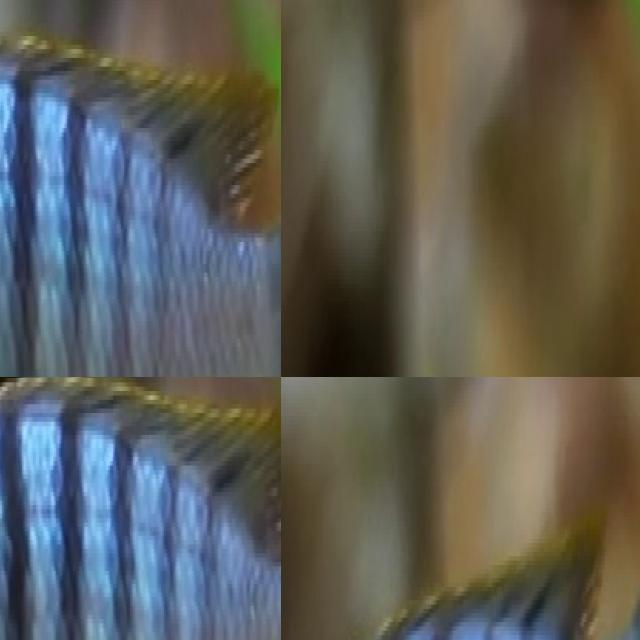fish: (0, 0, 281, 377), (0, 377, 281, 640), (344, 0, 640, 99)
